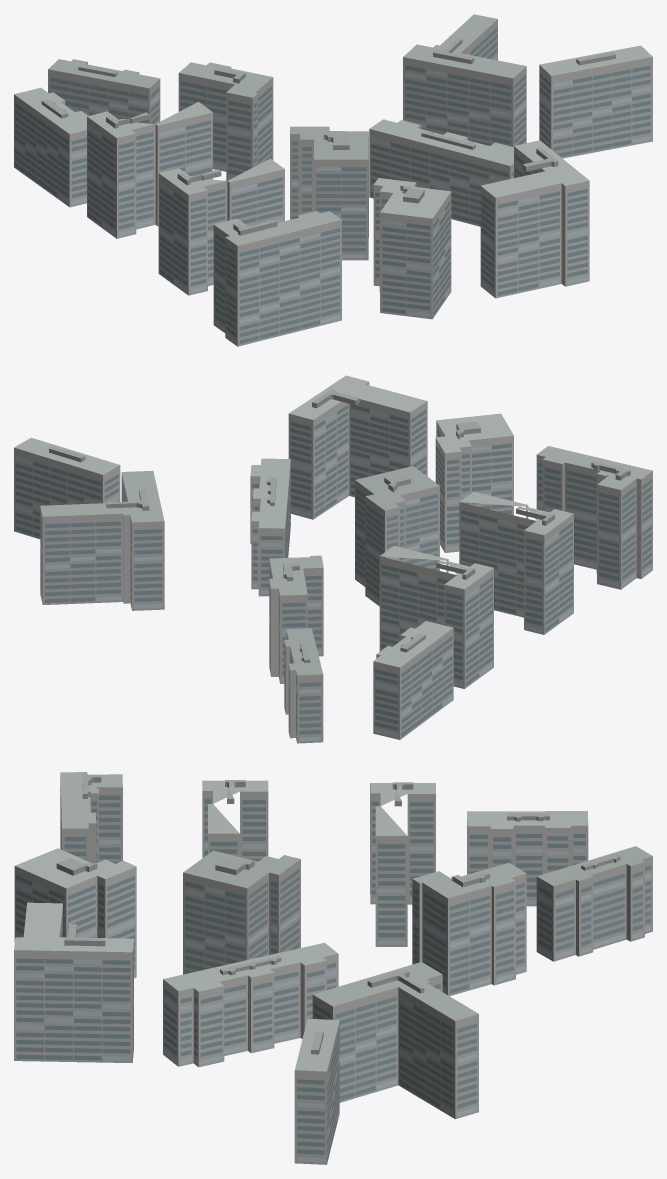
The model's file is apt-a10027433.glb.
The picture shows the model from 3 angles, top to bottom: view 1: azimuth 30°, elevation 25°; view 2: azimuth 150°, elevation 25°; view 3: azimuth 270°, elevation 25°; orthographic projection. The views are drawn at different scales.
Visible parts, largest first — view 1: apt-a10027433; view 2: apt-a10027433; view 3: apt-a10027433.
Boxes of the visible parts, left/top/right/bottom form: apt-a10027433: left=14, top=14, right=652, bottom=346; apt-a10027433: left=14, top=375, right=652, bottom=743; apt-a10027433: left=14, top=772, right=652, bottom=1164.
Size of the model in its own units: 229 by 44 by 219.
